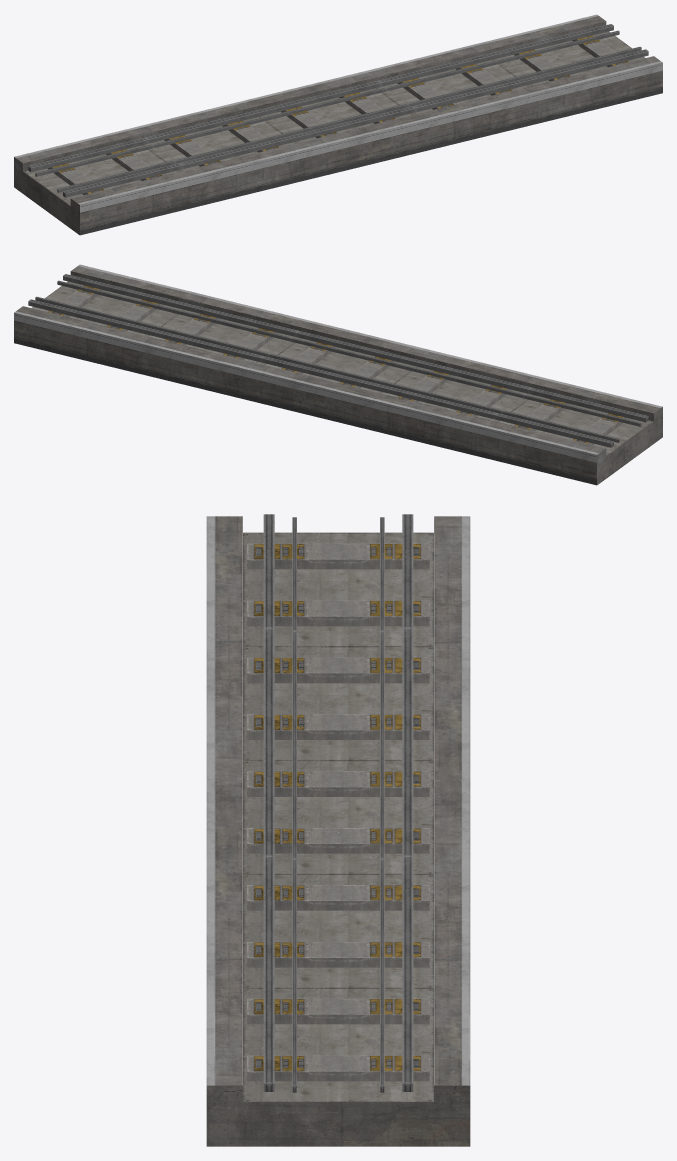
Rendered from CP_Metro_Track_20m.fbx.
3 views of the same model, one above another, from view 1: azimuth 30°, elevation 25°; view 2: azimuth 150°, elevation 25°; view 3: azimuth 270°, elevation 25° (orthographic). The views are drawn at different scales.
Parts seen in each view (by area): view 1: CP_Metro_Track_20m_LOD0; view 2: CP_Metro_Track_20m_LOD0; view 3: CP_Metro_Track_20m_LOD0.
Boxes of the visible parts, left/top/right/bottom form: CP_Metro_Track_20m_LOD0: left=14, top=14, right=662, bottom=235; CP_Metro_Track_20m_LOD0: left=14, top=264, right=662, bottom=485; CP_Metro_Track_20m_LOD0: left=206, top=514, right=470, bottom=1146.
Size of what is drawn, in the model's own units: 2000 by 103 by 391.
